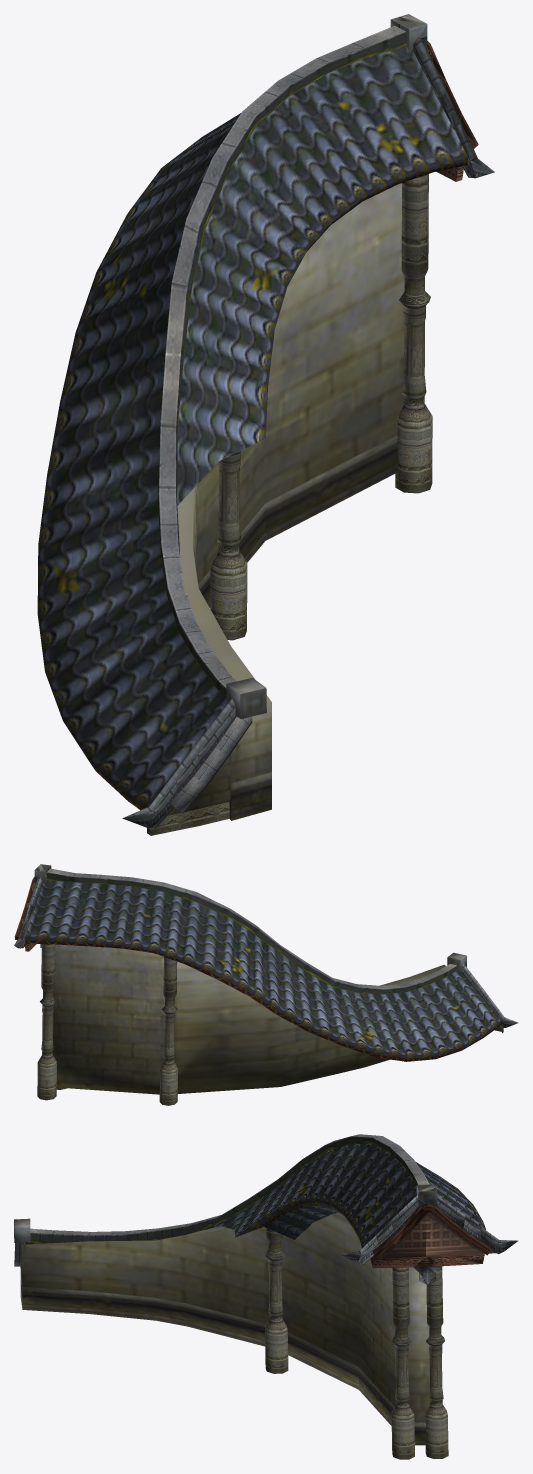
The model's file is S2_Build_XSC097.fbx.
3 views of the same model, one above another, from view 1: azimuth 30°, elevation 25°; view 2: azimuth 150°, elevation 25°; view 3: azimuth 270°, elevation 25° (orthographic). The views are drawn at different scales.
Parts seen in each view (by area): view 1: S2_Build_XSC097; view 2: S2_Build_XSC097; view 3: S2_Build_XSC097.
Part boxes in pixels (bbox=[...]): S2_Build_XSC097: bbox=[37, 14, 494, 835]; S2_Build_XSC097: bbox=[14, 864, 518, 1105]; S2_Build_XSC097: bbox=[14, 1134, 518, 1459].
Bounding box in the file's own units: 617 × 408 × 687.
